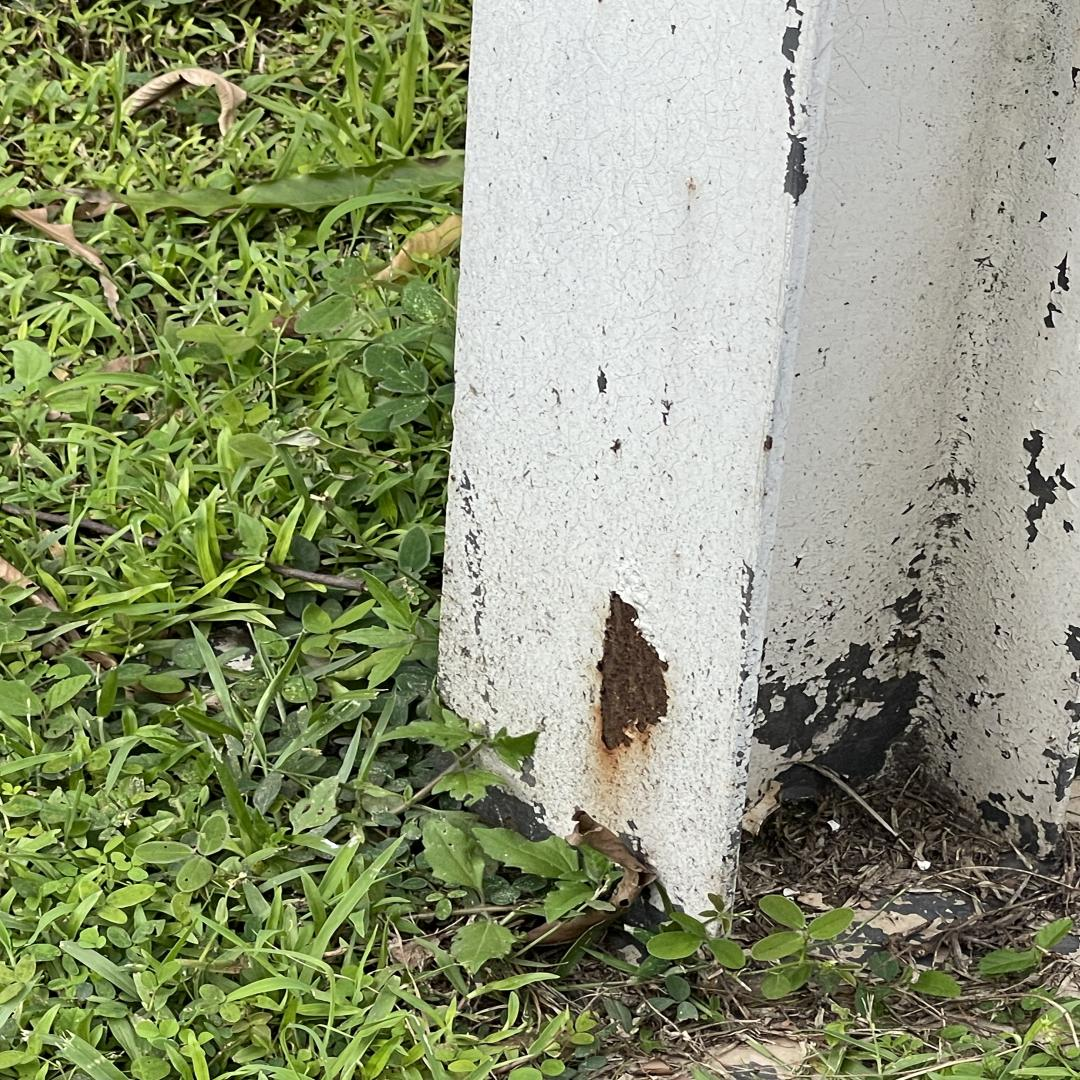Metal: (436, 0, 1080, 922)
Metal corroido: (597, 591, 681, 826)
